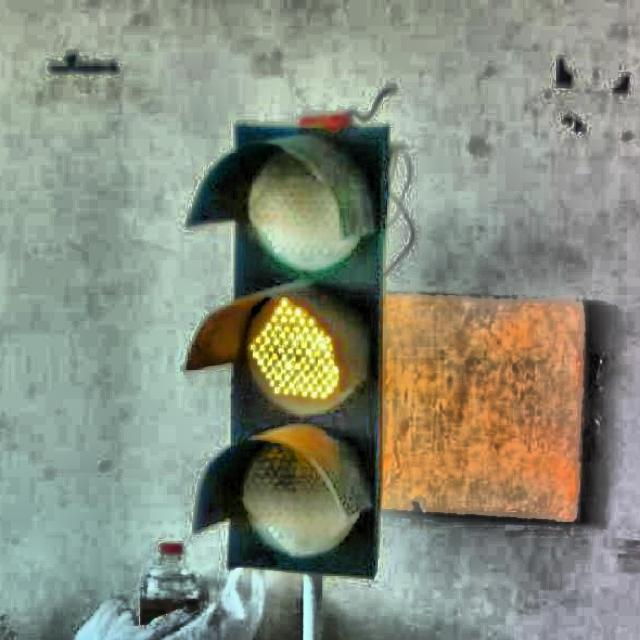yellow: (194, 129, 388, 571)
